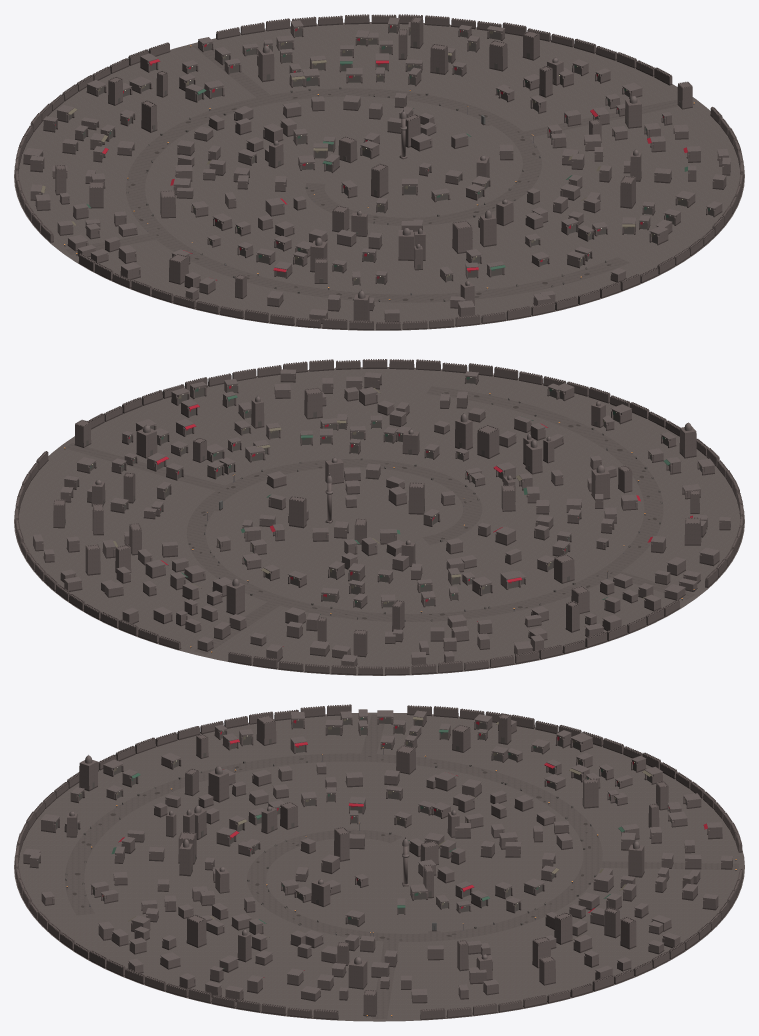
File: SouqAlDawar.gltf
3 views of the same model, one above another, from view 1: azimuth 30°, elevation 25°; view 2: azimuth 150°, elevation 25°; view 3: azimuth 270°, elevation 25° (orthographic).
Parts seen in each view (by area): view 1: SM_Souq_Ground, SM_Souq_Street, SM_Souq_Warehouse_W5D45_Crenel_162, SM_Souq_Warehouse_W4D45_Crenel_011, SM_Souq_Warehouse_W5D45_Dome_163, SM_Souq_Warehouse_W4D45_Dome_257, SM_Souq_Warehouse_W5D30_Crenel_301, SM_Souq_Warehouse_W5D30_Crenel_243, SM_Souq_Warehouse_W5D45_Crenel_413; view 2: SM_Souq_Ground, SM_Souq_Street, SM_Souq_Warehouse_W5D45_Crenel_162, SM_Souq_Warehouse_W4D45_Dome_257, SM_Souq_Warehouse_W5D45_Dome_361, SM_Souq_Warehouse_W5D45_Crenel_288, SM_Souq_Warehouse_W5D45_Dome_163, SM_Souq_Warehouse_W5D45_Dome_210, SM_Souq_Warehouse_W5D45_Crenel_201, SM_Souq_Warehouse_W3D45_Crenel_018, SM_Souq_Warehouse_W5D45_Dome_495, SM_Souq_Warehouse_W5D45_Dome_160 (+1 smaller); view 3: SM_Souq_Ground, SM_Souq_Street, SM_Souq_Warehouse_W5D45_Dome_210, SM_Souq_Warehouse_W5D45_Crenel_288, SM_Souq_Warehouse_W5D45_Dome_495, SM_Souq_Warehouse_W5D45_Dome_361, SM_Souq_Warehouse_W4D45_Dome_257, SM_Souq_Warehouse_W5D30_Crenel_243, SM_Souq_Warehouse_W5D45_Crenel_413.
Boxes of the visible parts, bbox=[...] form: SM_Souq_Ground: bbox=[14, 22, 744, 330]; SM_Souq_Street: bbox=[65, 45, 693, 302]; SM_Souq_Warehouse_W5D45_Crenel_162: bbox=[452, 220, 472, 253]; SM_Souq_Warehouse_W4D45_Crenel_011: bbox=[371, 163, 388, 197]; SM_Souq_Warehouse_W5D45_Dome_163: bbox=[480, 209, 496, 247]; SM_Souq_Warehouse_W4D45_Dome_257: bbox=[258, 44, 274, 82]; SM_Souq_Warehouse_W5D30_Crenel_301: bbox=[489, 40, 507, 71]; SM_Souq_Warehouse_W5D30_Crenel_243: bbox=[430, 43, 448, 74]; SM_Souq_Warehouse_W5D45_Crenel_413: bbox=[169, 253, 188, 284]; SM_Souq_Ground: bbox=[14, 367, 744, 675]; SM_Souq_Street: bbox=[65, 386, 694, 654]; SM_Souq_Warehouse_W5D45_Crenel_162: bbox=[477, 424, 499, 458]; SM_Souq_Warehouse_W4D45_Dome_257: bbox=[226, 578, 244, 614]; SM_Souq_Warehouse_W5D45_Dome_361: bbox=[136, 424, 157, 458]; SM_Souq_Warehouse_W5D45_Crenel_288: bbox=[304, 387, 322, 419]; SM_Souq_Warehouse_W5D45_Dome_163: bbox=[455, 413, 472, 450]; SM_Souq_Warehouse_W5D45_Dome_210: bbox=[591, 464, 610, 500]; SM_Souq_Warehouse_W5D45_Crenel_201: bbox=[554, 554, 574, 583]; SM_Souq_Warehouse_W3D45_Crenel_018: bbox=[289, 496, 306, 528]; SM_Souq_Warehouse_W5D45_Dome_495: bbox=[679, 422, 696, 458]; SM_Souq_Warehouse_W5D45_Dome_160: bbox=[525, 439, 542, 474]; SM_Souq_Ground: bbox=[14, 712, 744, 1021]; SM_Souq_Street: bbox=[65, 714, 739, 1019]; SM_Souq_Warehouse_W5D45_Dome_210: bbox=[208, 765, 229, 802]; SM_Souq_Warehouse_W5D45_Crenel_288: bbox=[186, 914, 206, 947]; SM_Souq_Warehouse_W5D45_Dome_495: bbox=[79, 755, 97, 791]; SM_Souq_Warehouse_W5D45_Dome_361: bbox=[348, 956, 367, 989]; SM_Souq_Warehouse_W4D45_Dome_257: bbox=[628, 840, 644, 877]; SM_Souq_Warehouse_W5D30_Crenel_243: bbox=[554, 912, 572, 944]; SM_Souq_Warehouse_W5D45_Crenel_413: bbox=[256, 715, 276, 745].
Size of the model in its own units: 245 by 18.04 by 245.
16 materials, 16 textured.
